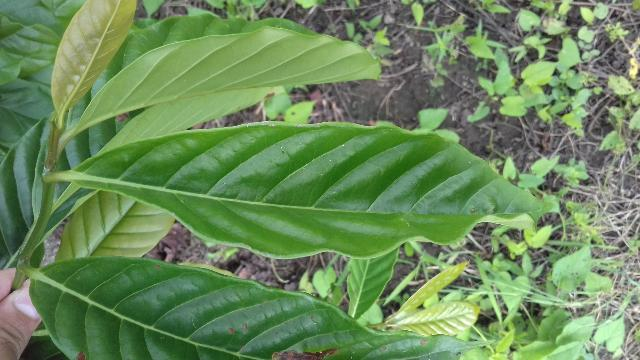healthy: (45, 123, 551, 258)
